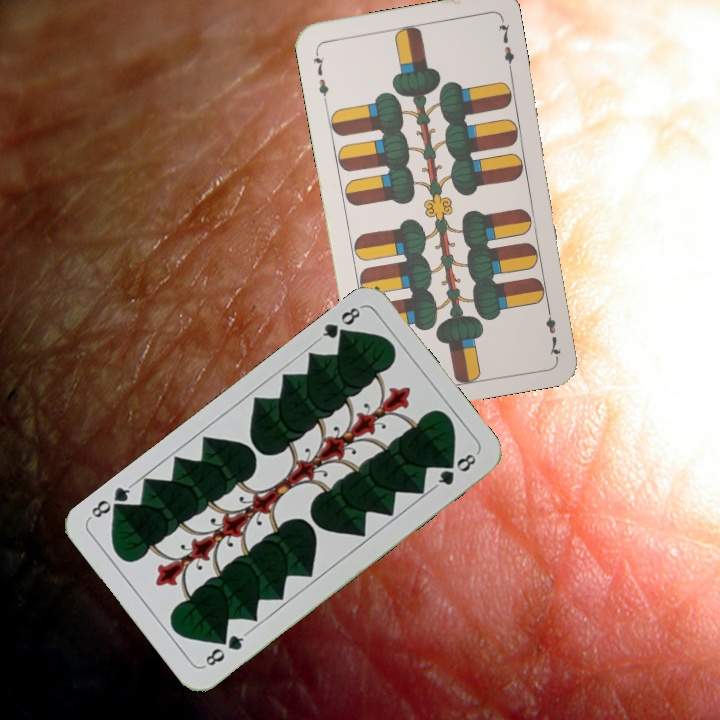E7: (308, 46, 332, 105), (541, 301, 564, 360)
G8: (313, 302, 364, 346), (198, 628, 250, 670)
